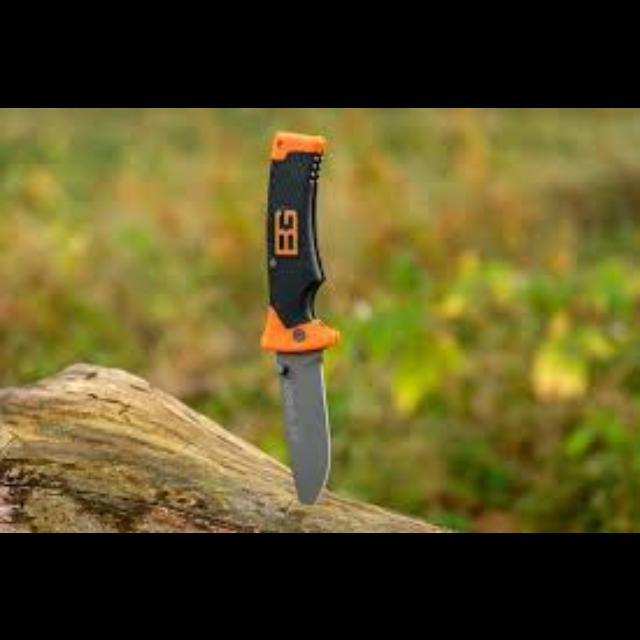Knife: (258, 128, 339, 502)
